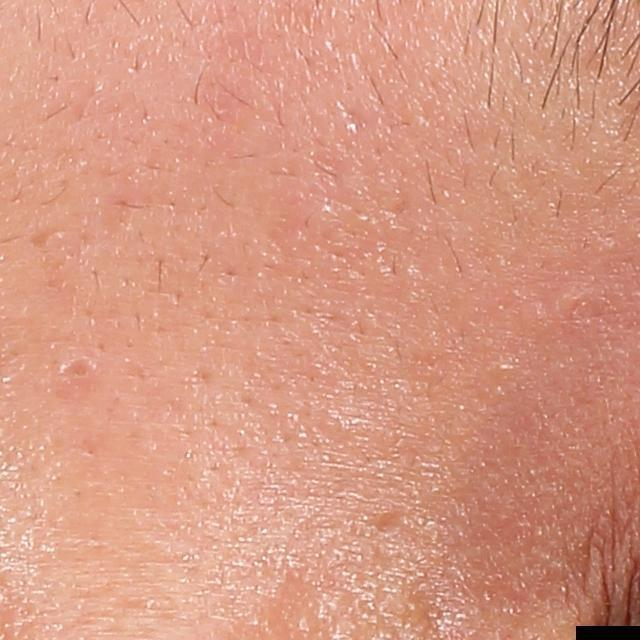atrophic_scar: (27, 223, 71, 250), (374, 510, 405, 537)
